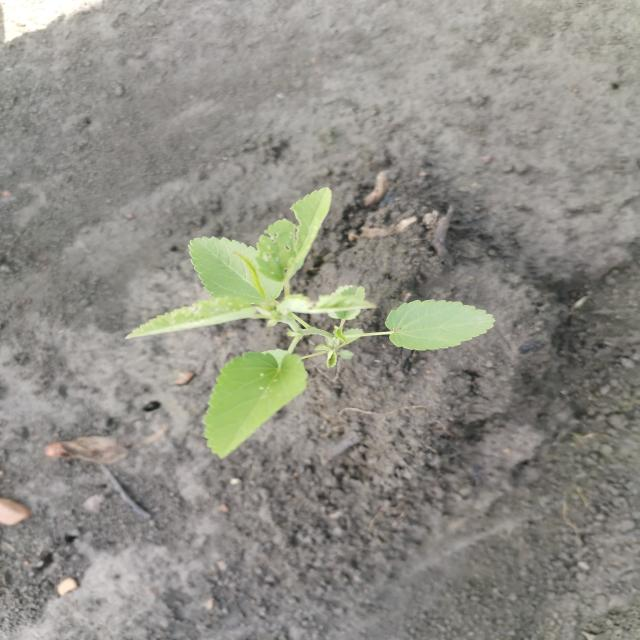PricklySida: (119, 185, 499, 461)
